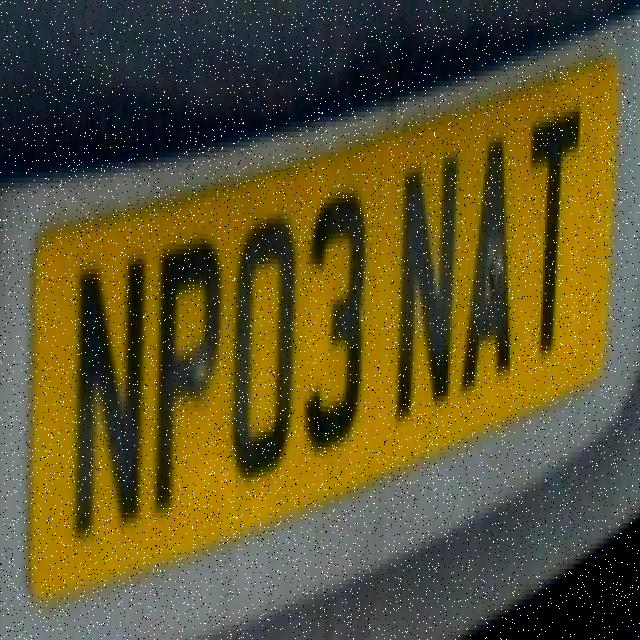licenseplate: (14, 30, 632, 640)
